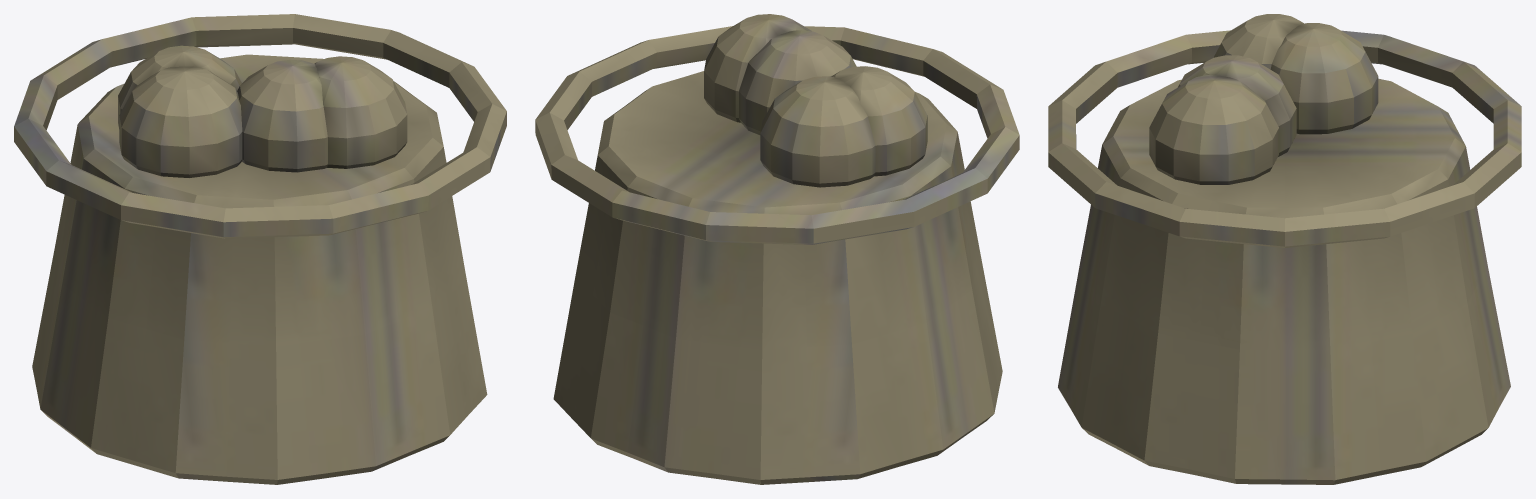
The model's file is p_basket.glb.
3 renders of one model, left to right at view 1: azimuth 30°, elevation 25°; view 2: azimuth 150°, elevation 25°; view 3: azimuth 270°, elevation 25°, orthographic.
Visible parts, largest first — view 1: basket; view 2: basket; view 3: basket.
Part boxes in pixels (left/top/right/bottom): basket: left=14, top=14, right=506, bottom=484; basket: left=535, top=14, right=1019, bottom=484; basket: left=1048, top=14, right=1521, bottom=484.
Bounding box in the file's own units: 0.5102 × 0.3908 × 0.4974.
Materials: 1 (1 with a texture image).
